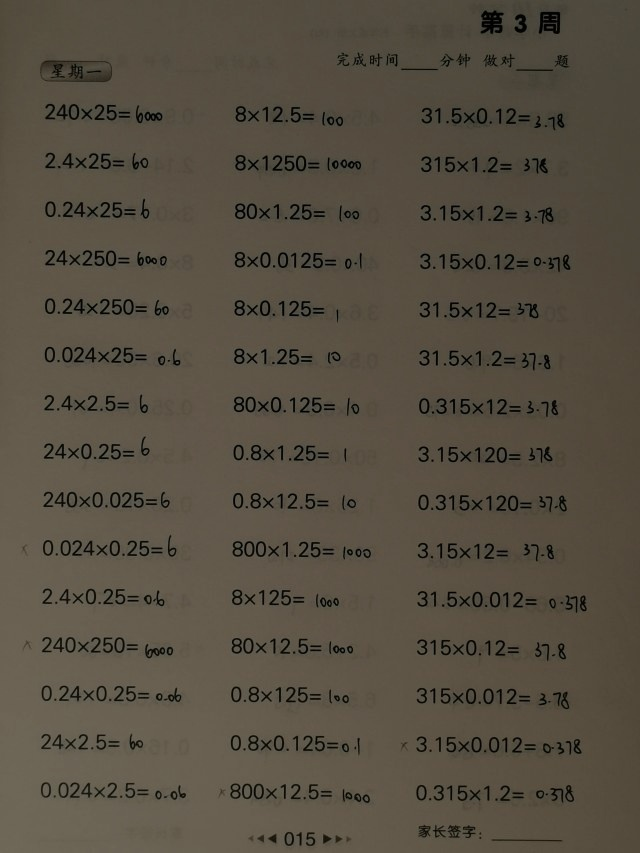equation: (413, 585, 590, 613), (410, 734, 587, 760), (412, 682, 573, 710), (417, 101, 569, 130), (215, 778, 373, 805), (38, 531, 180, 561), (413, 635, 570, 662), (415, 248, 574, 274), (413, 489, 571, 515), (37, 631, 177, 660), (36, 777, 189, 803), (413, 538, 558, 565), (36, 680, 186, 706), (227, 536, 374, 562), (414, 393, 561, 419), (415, 345, 554, 372), (412, 783, 575, 806), (39, 342, 183, 368), (416, 200, 557, 226), (39, 100, 165, 129), (225, 730, 364, 756), (415, 442, 557, 467), (39, 436, 157, 466), (228, 392, 363, 418), (416, 151, 551, 177), (230, 150, 365, 176), (39, 293, 173, 319), (229, 198, 363, 224), (229, 247, 366, 272), (38, 583, 169, 609), (39, 487, 174, 512), (226, 681, 353, 707), (415, 296, 542, 322), (227, 488, 359, 513), (227, 634, 358, 659), (42, 246, 172, 271), (229, 294, 343, 322), (41, 195, 155, 223), (228, 439, 350, 465), (38, 390, 151, 418), (230, 101, 347, 128), (227, 584, 342, 610), (230, 344, 346, 369), (41, 148, 153, 173), (38, 730, 148, 755)
